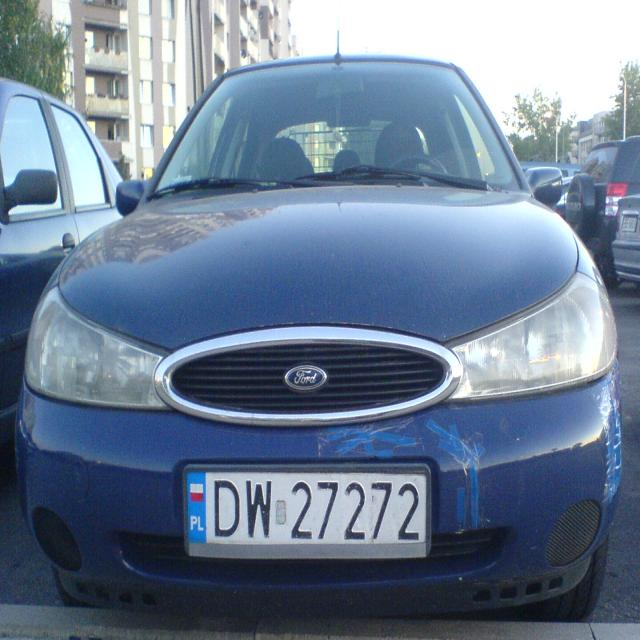pl_license_plate: (185, 466, 427, 545)
